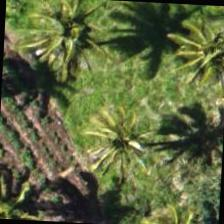Kelapa_Sawit: (72, 87, 168, 182), (22, 0, 117, 82), (161, 8, 223, 103)
